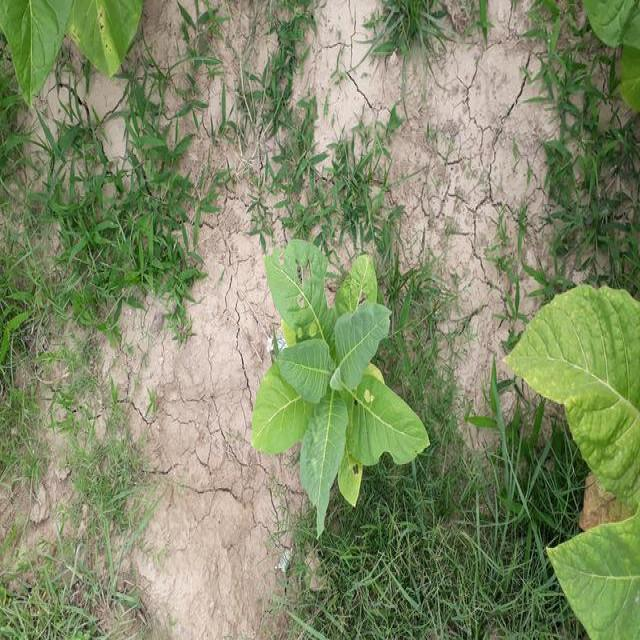crop: (242, 242, 418, 500), (514, 287, 640, 640), (0, 0, 132, 88), (589, 0, 640, 107)
